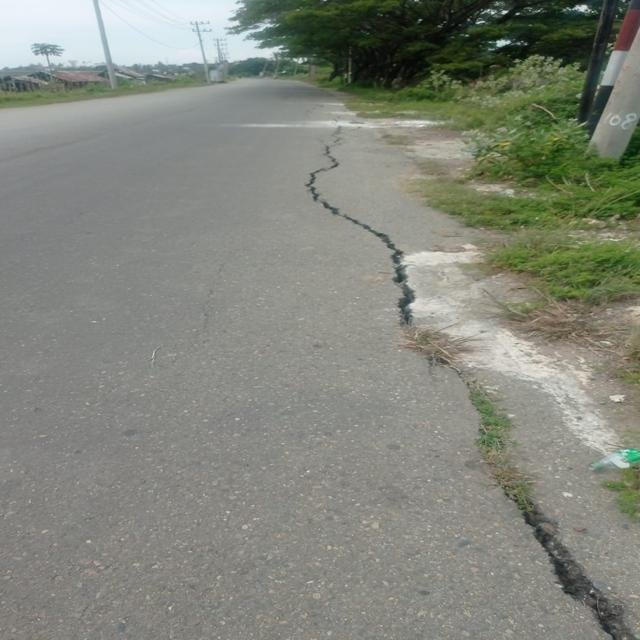Memanjang: (285, 106, 640, 640)
